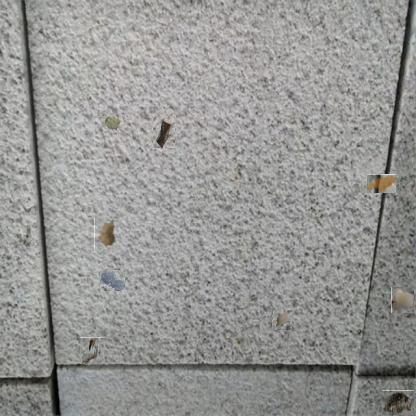dirty: (382, 390, 414, 415), (94, 218, 117, 250), (153, 116, 175, 148), (79, 338, 106, 364), (391, 287, 414, 313), (98, 114, 122, 132), (272, 310, 292, 330)
liquid: (99, 269, 125, 291), (366, 174, 396, 193)
